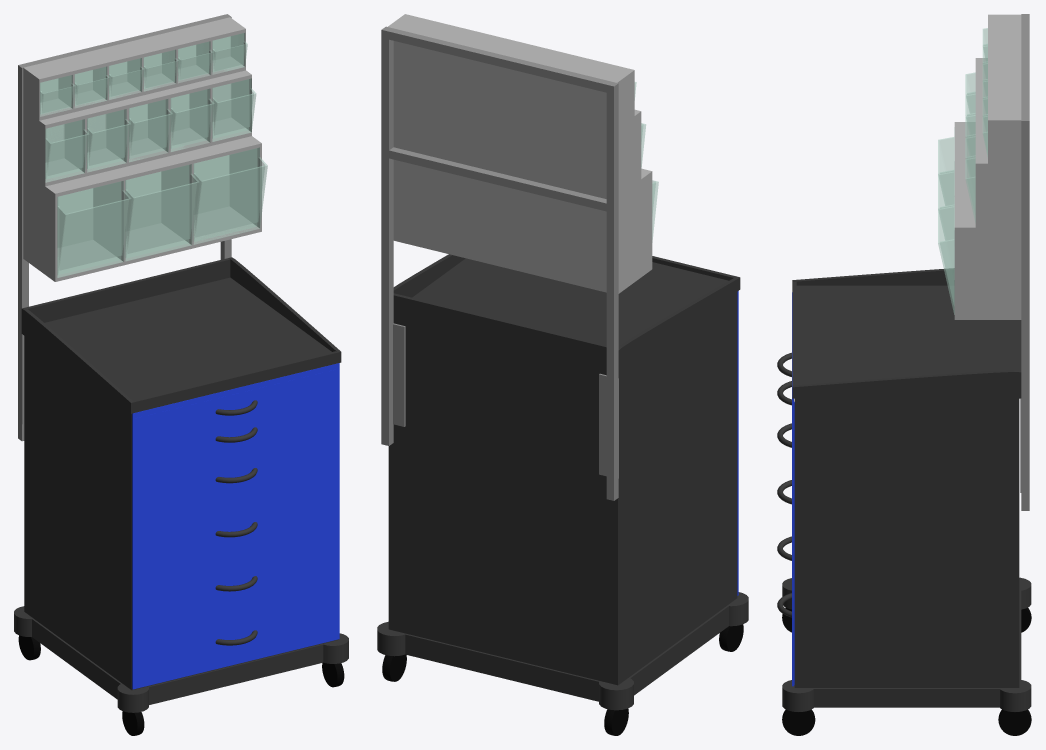
The model's file is Anethesia Cart v2.0.FBX.
The picture shows the model from 3 angles, left to right: view 1: azimuth 30°, elevation 25°; view 2: azimuth 150°, elevation 25°; view 3: azimuth 270°, elevation 25°; orthographic projection. The views are drawn at different scales.
Visible parts, largest first — view 1: DrawerContainerTop, DrawerContainer, TopWorkspace, DrawerB04, DrawerB03, DrawerB02, DrawerB01, BottomSupport, DrawerTB01, DrawerTB02, DrawerTB03, DrawerS01 (+14 smaller); view 2: DrawerContainer, DrawerContainerTop, TopWorkspace, DrawerContainerTopHolder, BottomSupport; view 3: DrawerContainer, TopWorkspace, DrawerContainerTop, BottomSupport, DrawerContainerTopHolder, DrawerTB03, DrawerTB02, DrawerTB01, Wheel03, Wheel04, DrawerTM05.
Part boxes in pixels (<box>): DrawerContainerTop: <box>23,17,261,281</box>; DrawerContainer: <box>24,336,338,690</box>; TopWorkspace: <box>21,257,341,413</box>; DrawerB04: <box>132,585,339,689</box>; DrawerB03: <box>132,531,339,635</box>; DrawerB02: <box>132,477,339,581</box>; DrawerB01: <box>132,422,339,526</box>; BottomSupport: <box>14,606,348,712</box>; DrawerTB01: <box>57,181,131,277</box>; DrawerTB02: <box>125,164,199,261</box>; DrawerTB03: <box>193,147,267,244</box>; DrawerS01: <box>132,368,339,445</box>; DrawerContainer: <box>388,292,737,685</box>; DrawerContainerTop: <box>388,14,652,293</box>; TopWorkspace: <box>393,254,740,377</box>; DrawerContainerTopHolder: <box>381,26,618,500</box>; BottomSupport: <box>377,592,748,710</box>; DrawerContainer: <box>794,398,1019,687</box>; TopWorkspace: <box>792,268,1021,398</box>; DrawerContainerTop: <box>954,14,1021,319</box>; BottomSupport: <box>782,577,1031,711</box>; DrawerContainerTopHolder: <box>1020,14,1029,510</box>; DrawerTB03: <box>938,197,954,314</box>; DrawerTB02: <box>938,162,954,240</box>; DrawerTB01: <box>938,127,954,205</box>; Wheel03: <box>782,709,815,735</box>; Wheel04: <box>998,709,1031,735</box>; DrawerTM05: <box>965,157,975,222</box>.
Size of the model in its own units: 66 by 164 by 61.14.
